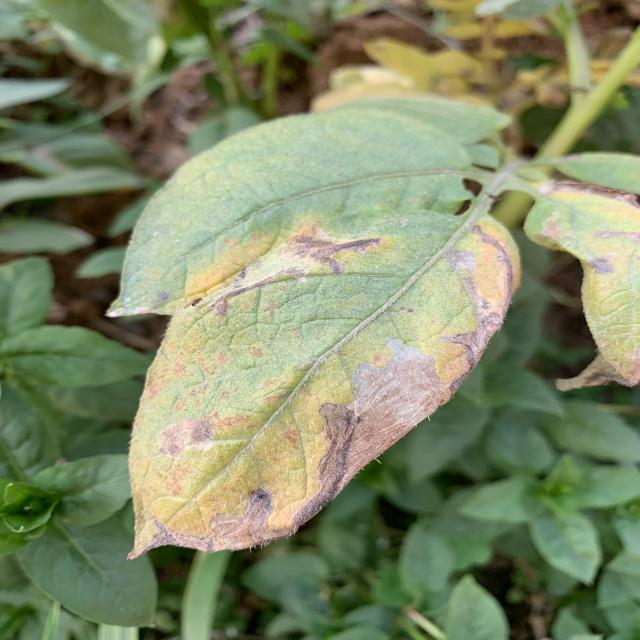lateblight: (318, 338, 448, 501), (128, 488, 327, 558), (437, 220, 520, 372), (280, 224, 382, 275)
